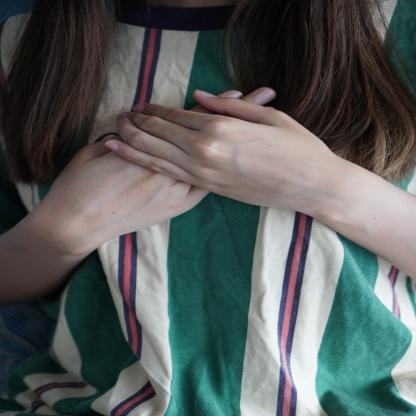Grieve: (49, 85, 374, 239)
